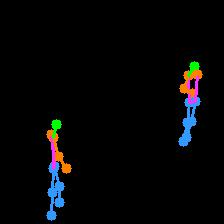normal: (37, 115, 75, 223), (177, 57, 202, 150)
